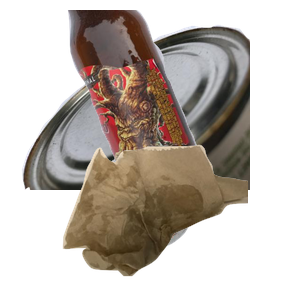glass: (65, 10, 300, 190)
metal: (19, 22, 259, 202)
plastic: (91, 152, 281, 300)
trash: (60, 142, 300, 300)
